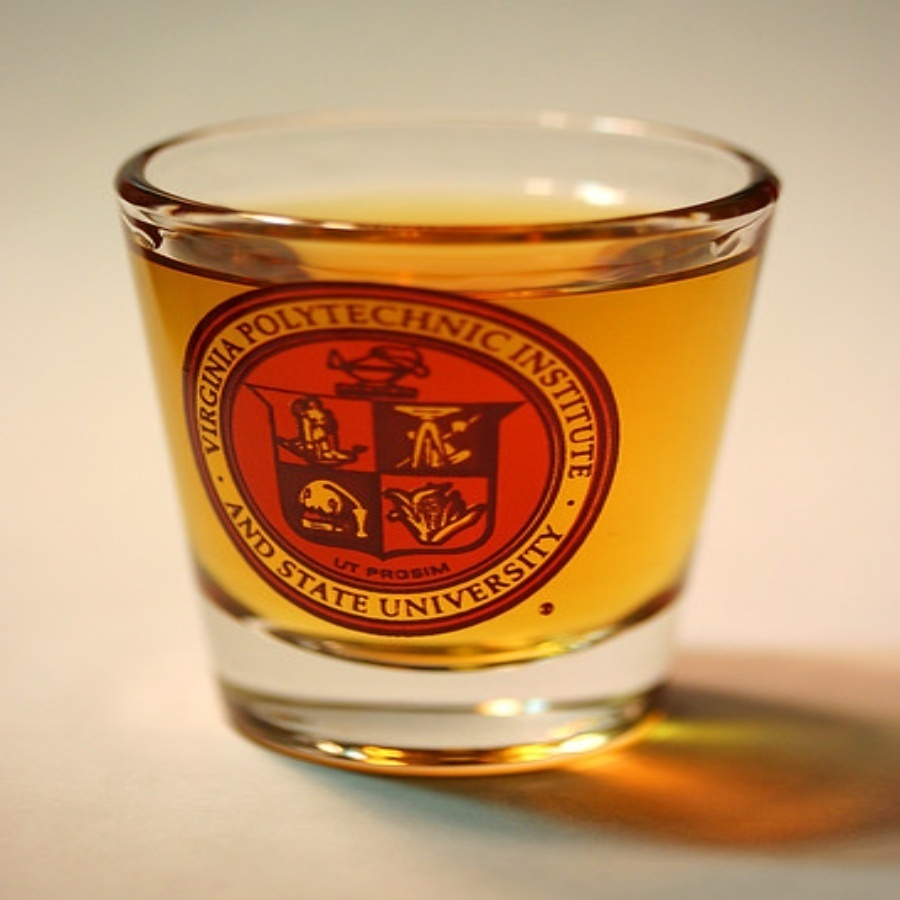whiskey: (124, 102, 738, 772)
